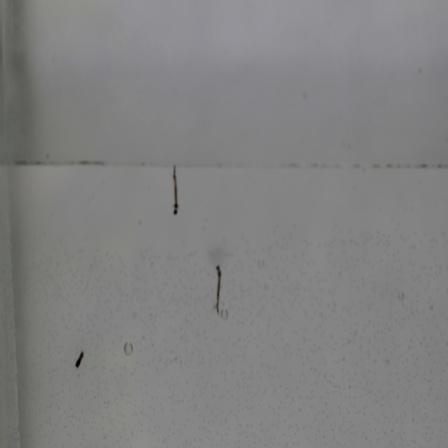Jentik-Nyamuk: (209, 263, 225, 314), (169, 161, 181, 221), (70, 348, 91, 373)
